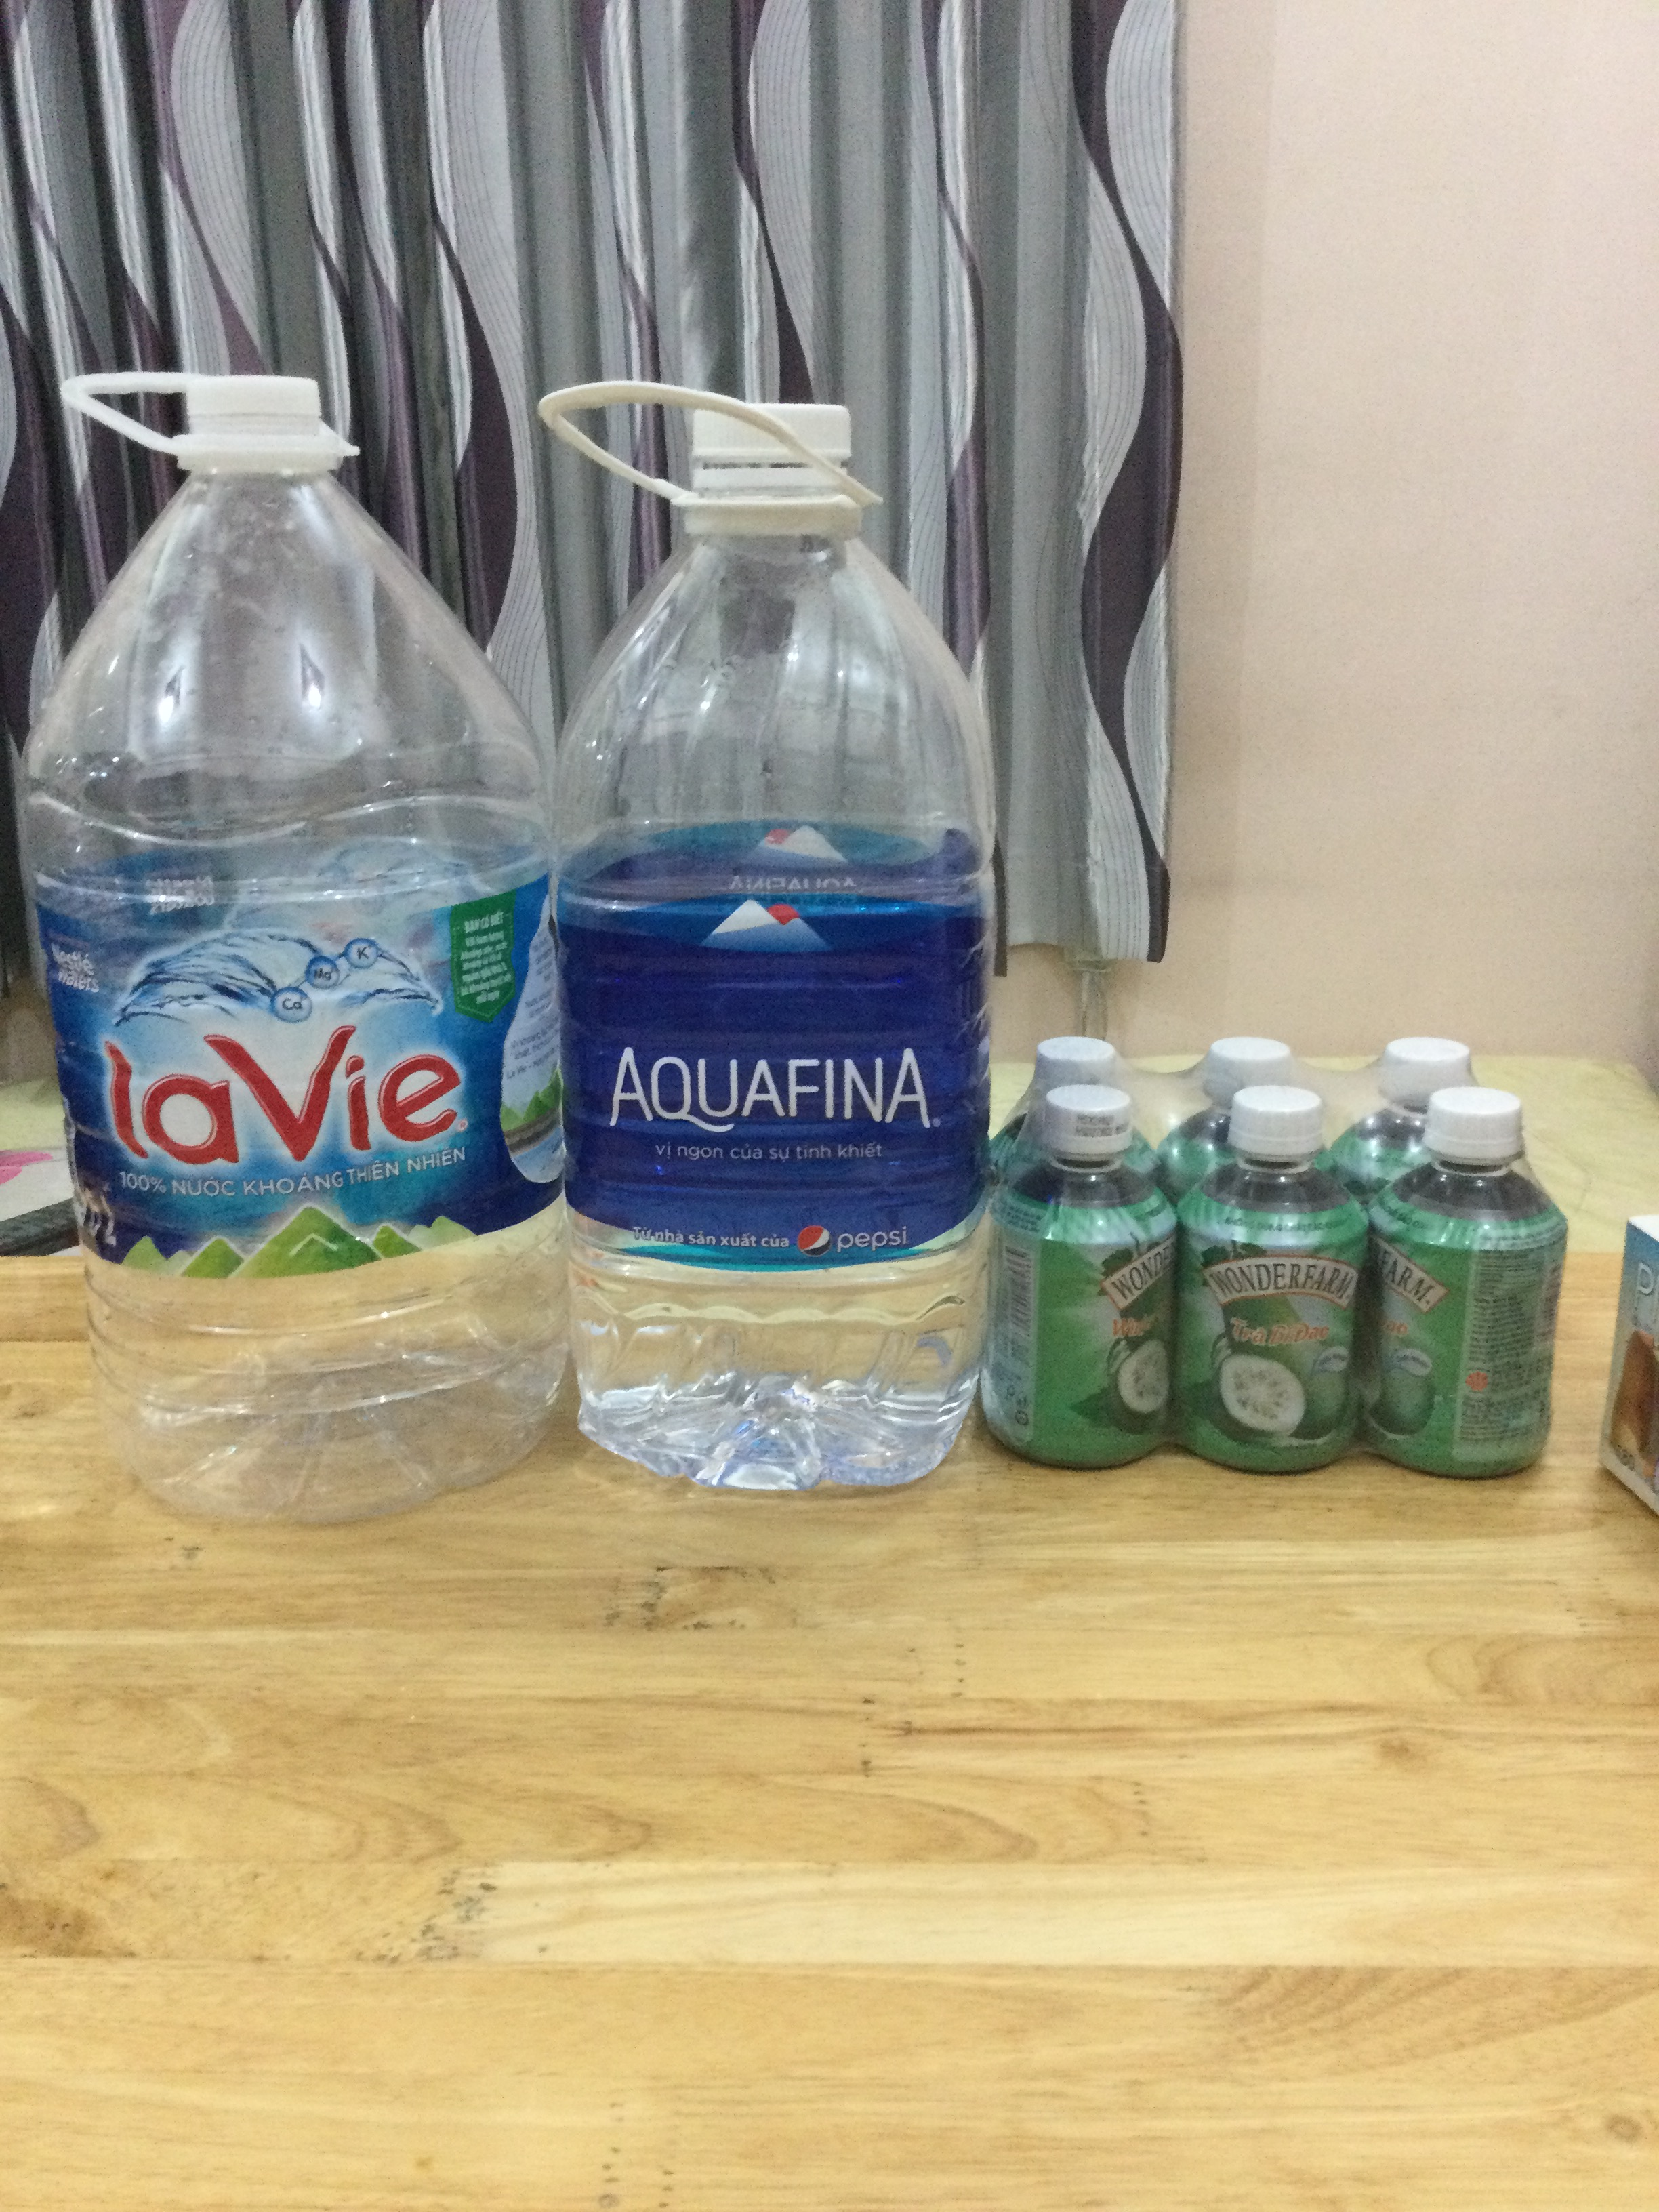aquafina: (599, 1033, 938, 1139)
lavie: (99, 1024, 457, 1163)
pepsi: (795, 1224, 833, 1258)
wonderfarm: (1208, 1261, 1352, 1305)
